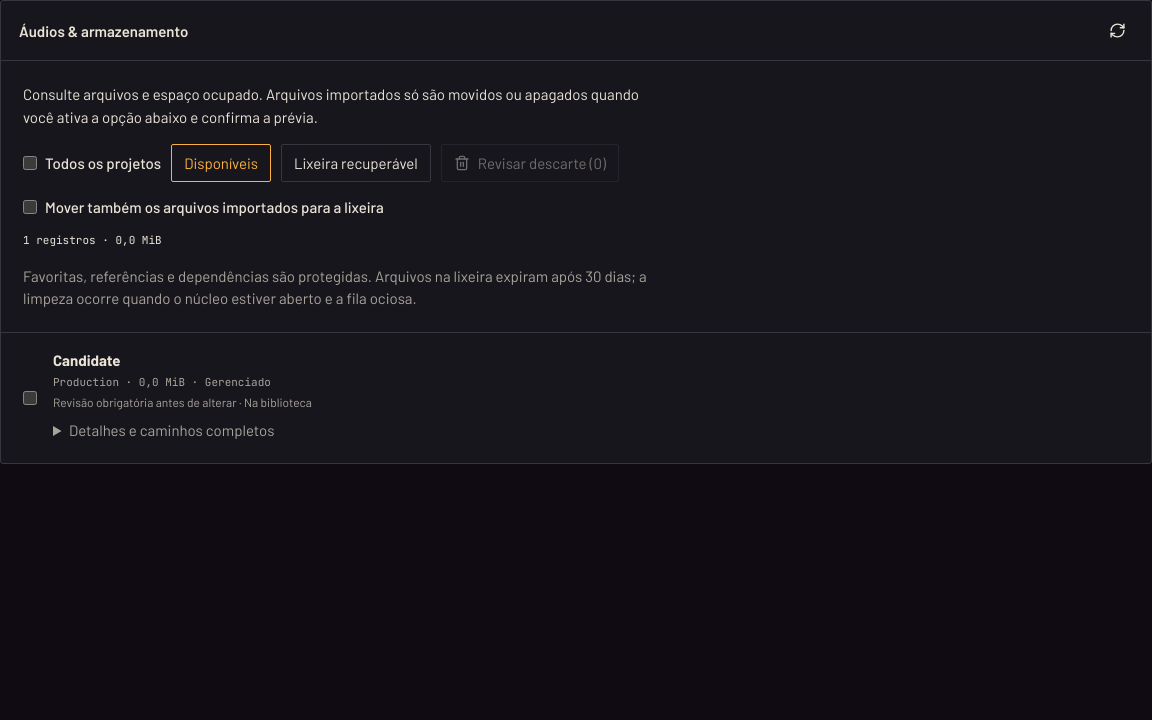
Test: inventories paths but never discards automatically; cancelling preserves everything
What coordinates should you click on to do the following:
click the checkbox named "Selecionar Candidate"
I would click on:
 (30, 398)
Its box is [23,390,37,404].
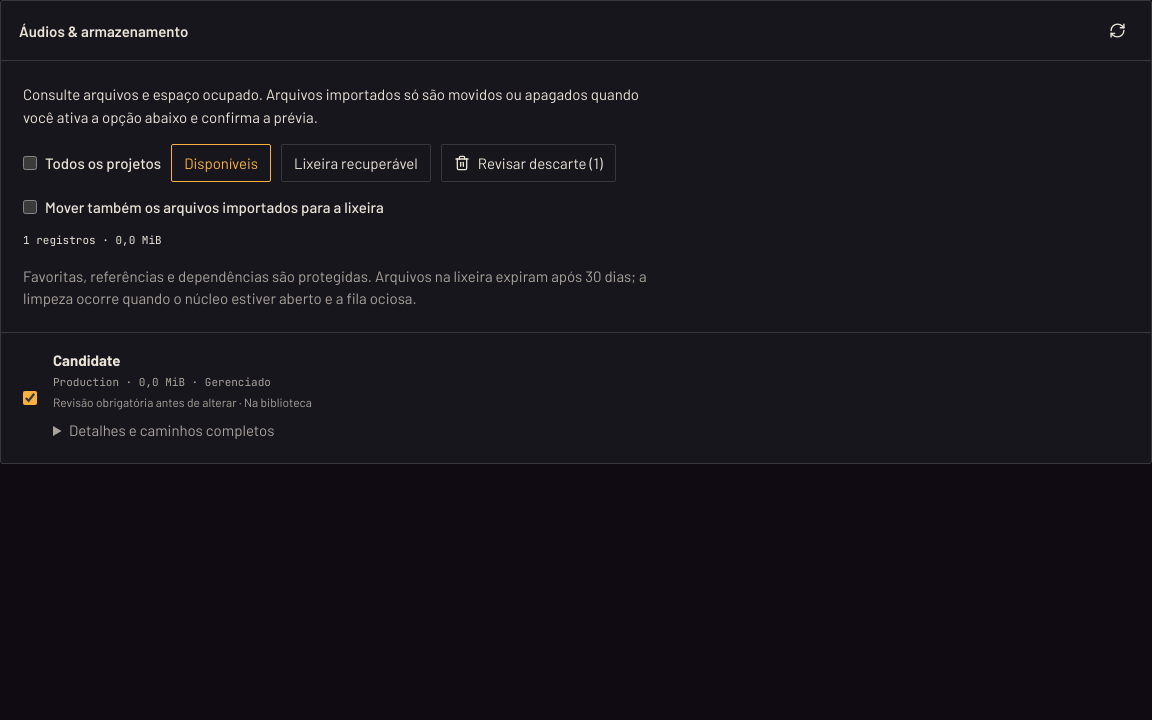
What coordinates should you click on to do the following:
click the button "Revisar descarte (1)"
I would click on:
 (528, 163)
Its box is [441,144,616,182].
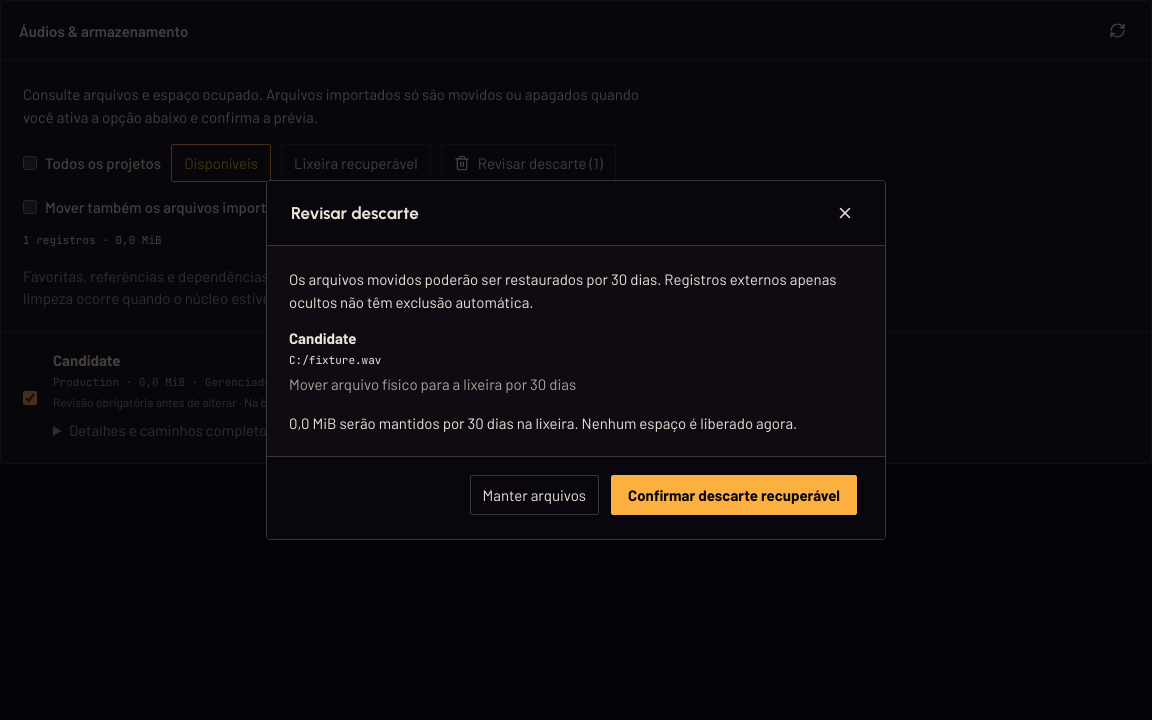
expect the dialog is shown: met, box [266,180,886,540]
What coordinates should you click on to do the following:
click the button "Manter arquivos"
I would click on:
 (534, 495)
Its box is [470,475,599,515].
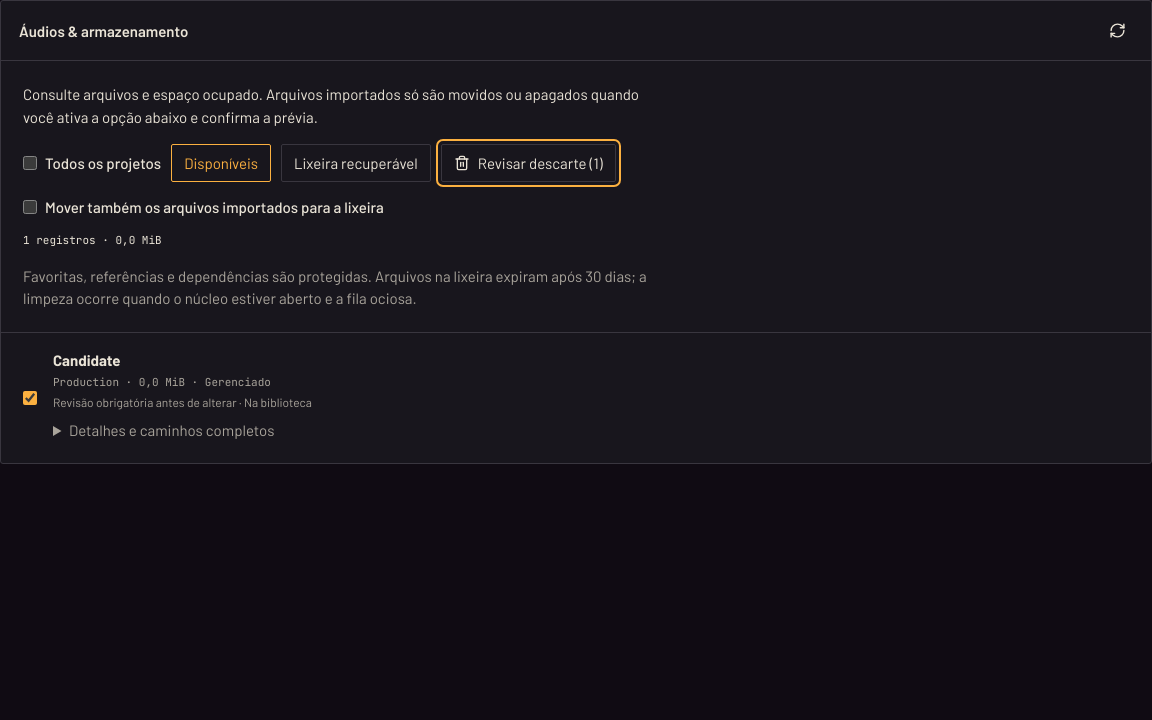
expect the dialog is gone: met
